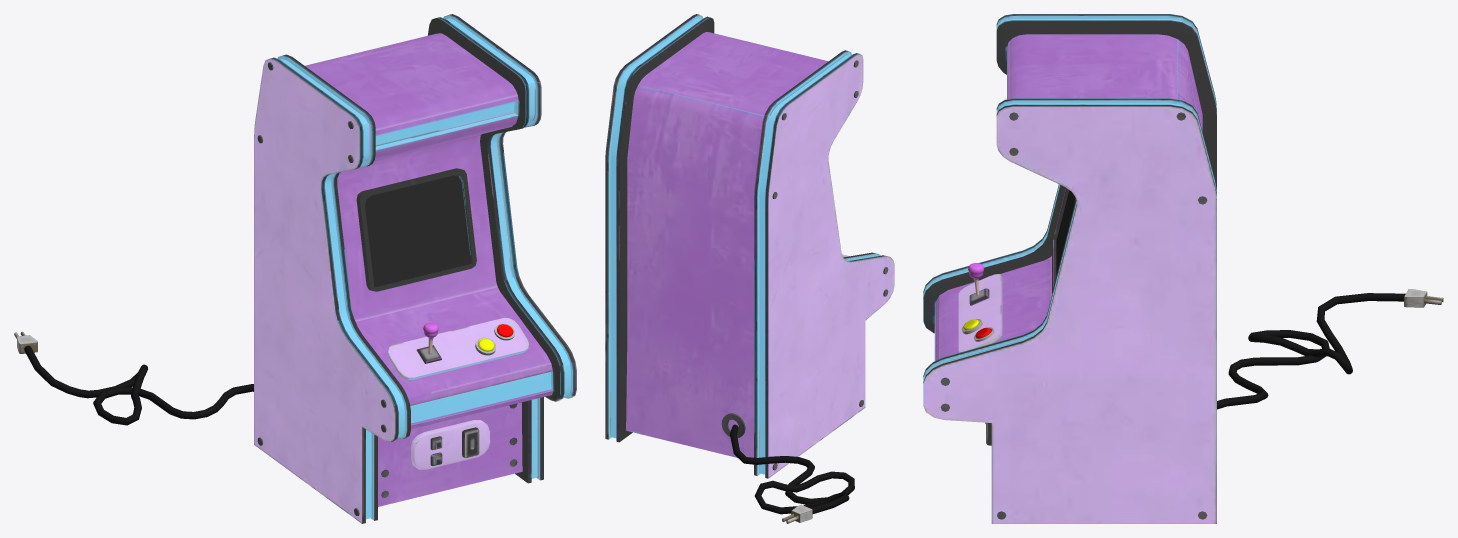
3 renders of one model, left to right at view 1: azimuth 30°, elevation 25°; view 2: azimuth 150°, elevation 25°; view 3: azimuth 270°, elevation 25°, orthographic. The views are drawn at different scales.
Parts seen in each view (by area): view 1: defaultMaterial (×3); view 2: defaultMaterial (×4); view 3: defaultMaterial (×3).
Part boxes in pixels (x1,y1,x2,y2): defaultMaterial (×3): [24, 14, 576, 523]; defaultMaterial (×4): [605, 14, 894, 523]; defaultMaterial (×3): [923, 14, 1405, 523].
Size of the model in its own units: 392 by 455 by 514.
8 materials, 6 textured.
